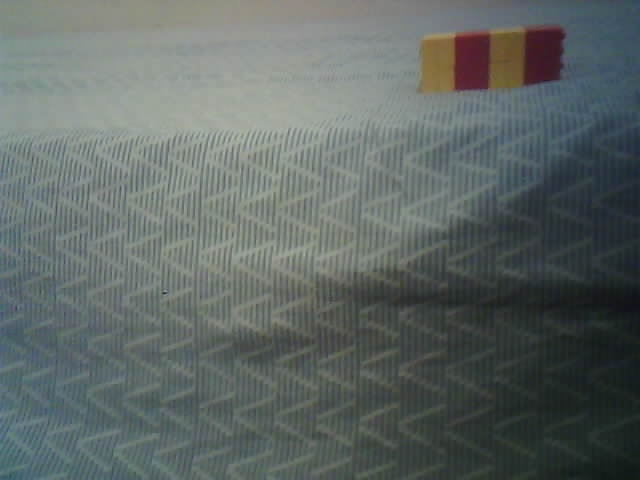lego: (418, 23, 566, 94)
